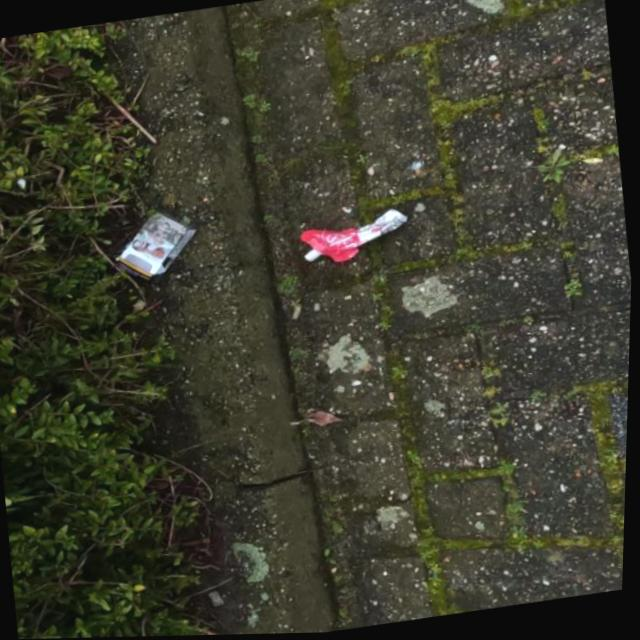Paper: (108, 200, 206, 291)
Plastic: (296, 207, 415, 268)
